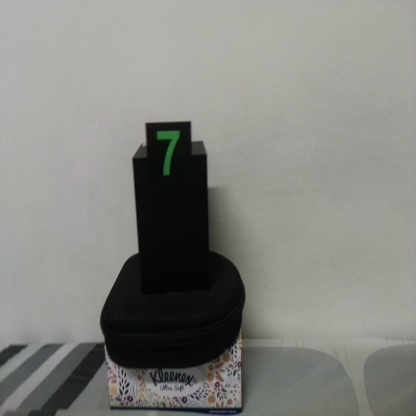id_7: (147, 125, 191, 194)
